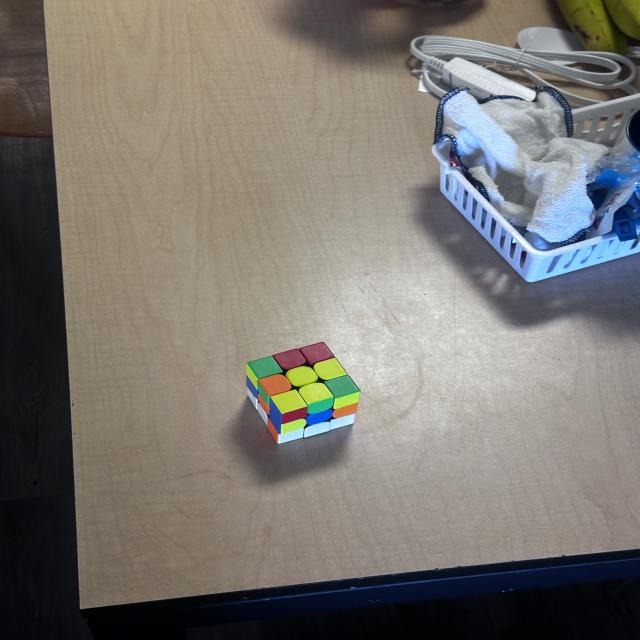sticker: (246, 356, 284, 406), (269, 389, 309, 425), (298, 382, 335, 414), (322, 375, 361, 404), (247, 356, 283, 381), (258, 373, 292, 398), (299, 342, 335, 365), (312, 358, 348, 381), (272, 348, 306, 371), (286, 366, 318, 388), (331, 390, 361, 413), (275, 422, 305, 444), (277, 417, 305, 436), (304, 420, 332, 438), (306, 408, 334, 426), (330, 413, 356, 431), (332, 401, 358, 418), (246, 375, 260, 402), (246, 364, 260, 389), (266, 418, 280, 441), (258, 386, 270, 409), (258, 396, 270, 415)
